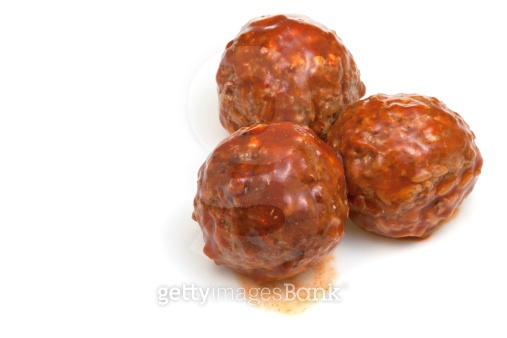meatballs: (194, 119, 351, 272), (329, 98, 486, 243), (215, 11, 372, 151)
